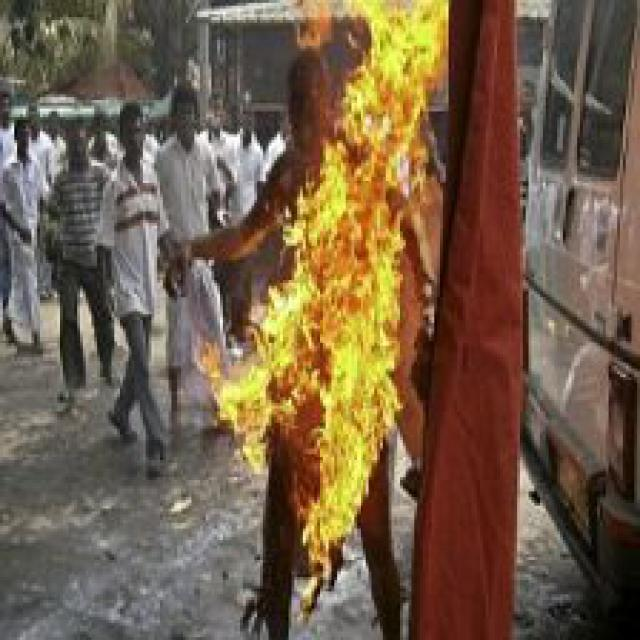fire: (203, 6, 451, 568)
